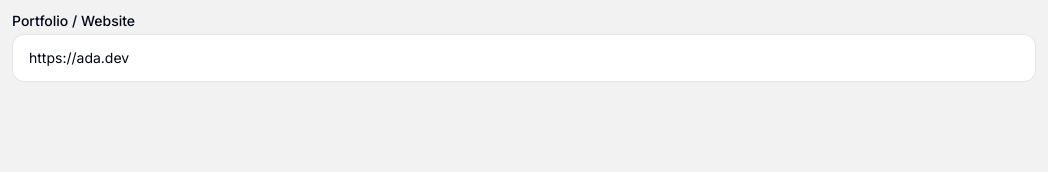
Scenario: Input whitespace › strips spaces from url fields, including paste
Replace the text in the field labelled "Portfolio / Website" with "https://ada.dev/my resume": (524, 58) [12,34,1036,82]
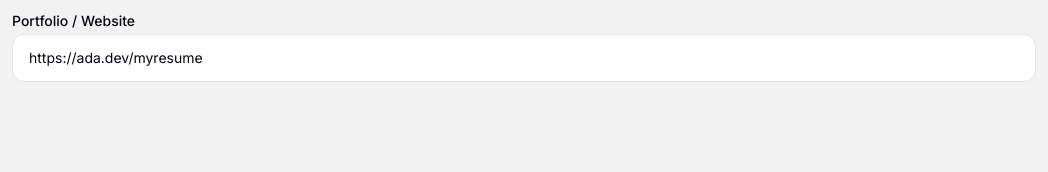
Expected: the field labelled "Portfolio / Website" holds "https://ada.dev/myresume", [12,34,1036,82]
